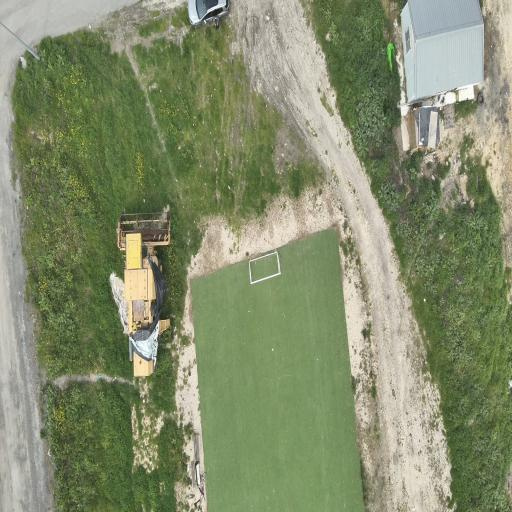car: (188, 0, 229, 27)
harvester: (118, 213, 170, 376)
